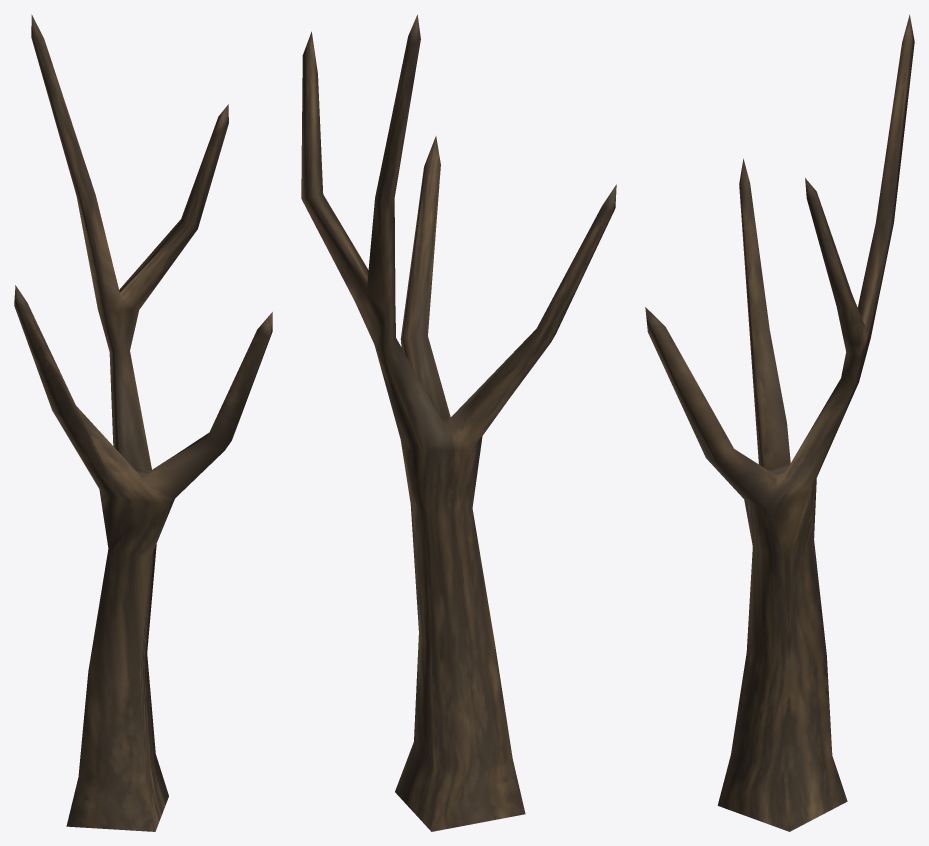
Rendered from Tree_Bare_4.fbx.
3 views of the same model, side by side, from view 1: azimuth 30°, elevation 25°; view 2: azimuth 150°, elevation 25°; view 3: azimuth 270°, elevation 25° (orthographic). The views are drawn at different scales.
Parts seen in each view (by area): view 1: Cube.082; view 2: Cube.082; view 3: Cube.082.
Boxes of the visible parts, <box> form: Cube.082: <box>14,14,272,831</box>; Cube.082: <box>301,14,616,831</box>; Cube.082: <box>645,14,914,831</box>.
Bounding box in the file's own units: 167 × 492 × 154.
1 material, 1 textured.
